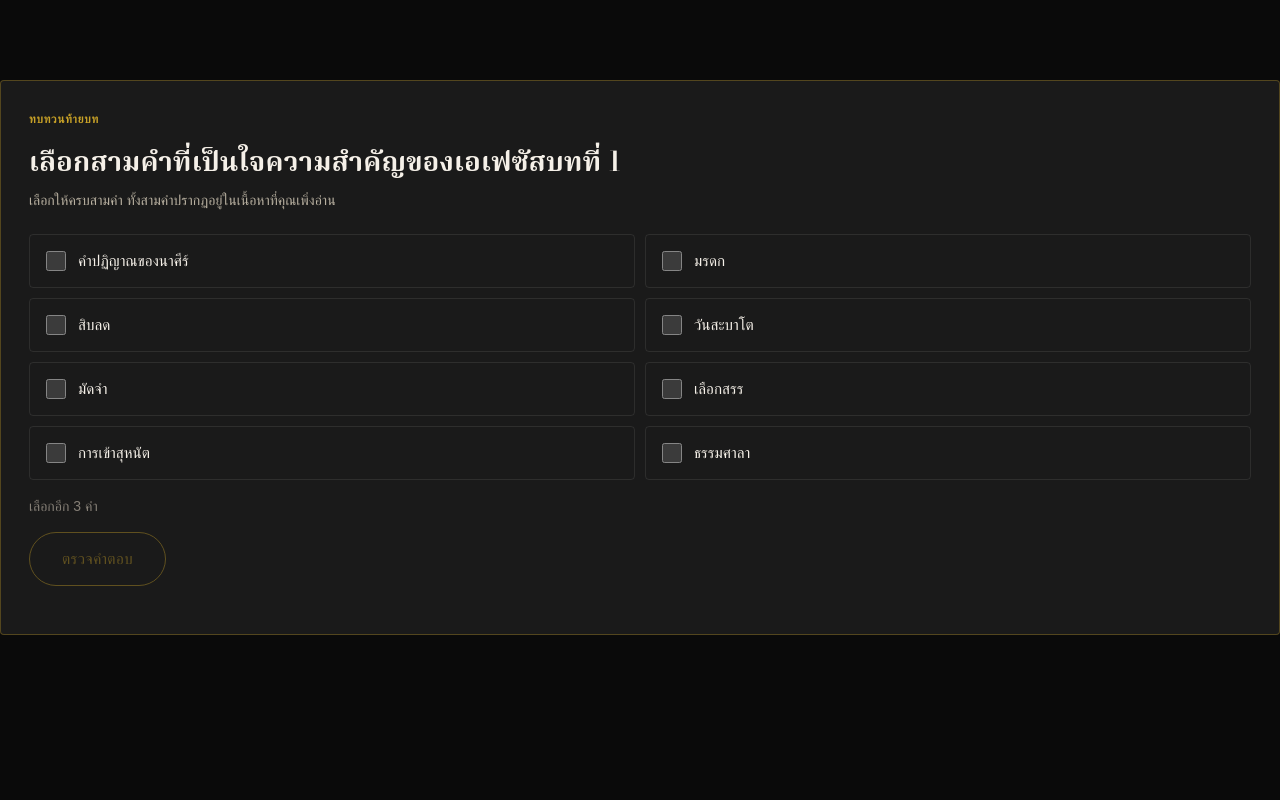
chapter ending flow › does not complete the chapter when the answer is wrong
Click the checkbox labelled "เลือกสรร".
click(672, 389)  # box [662,379,682,399]
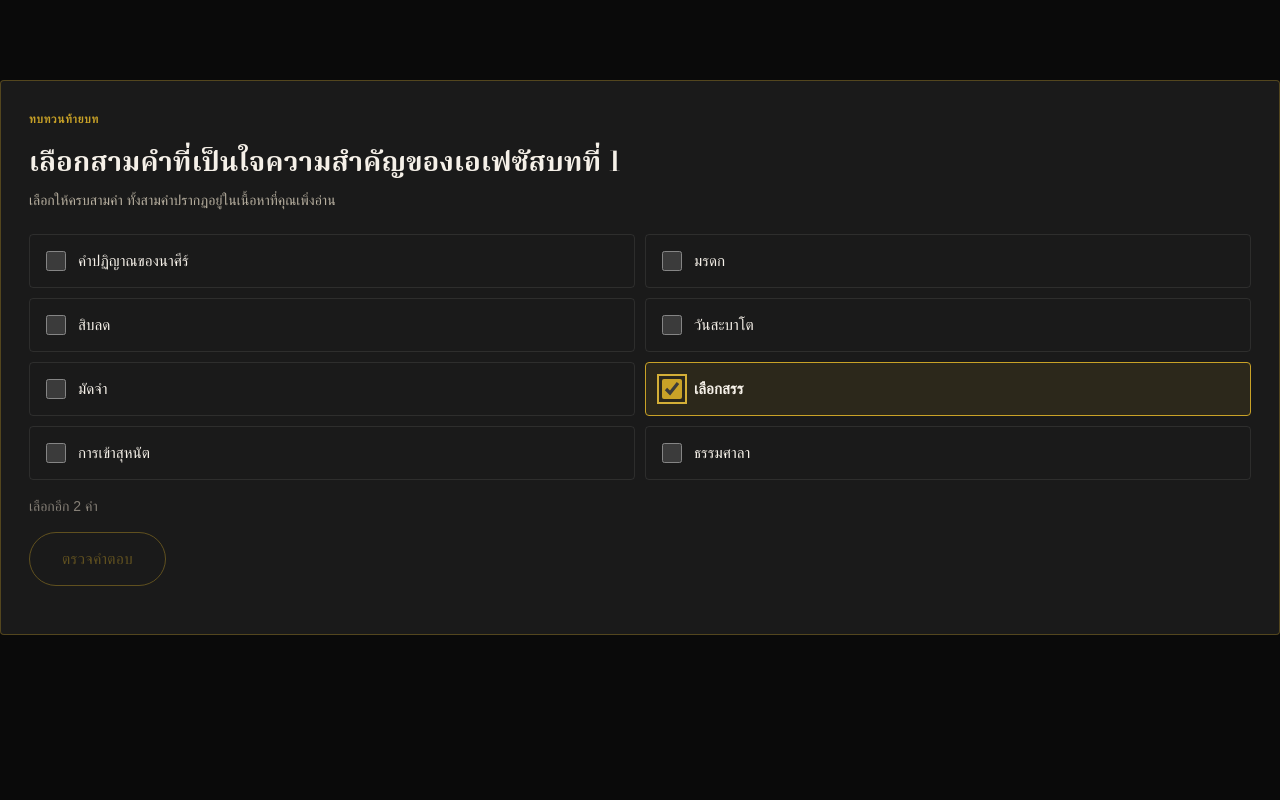
Click the checkbox labelled "มรดก".
click(672, 261)  # box [662,251,682,271]
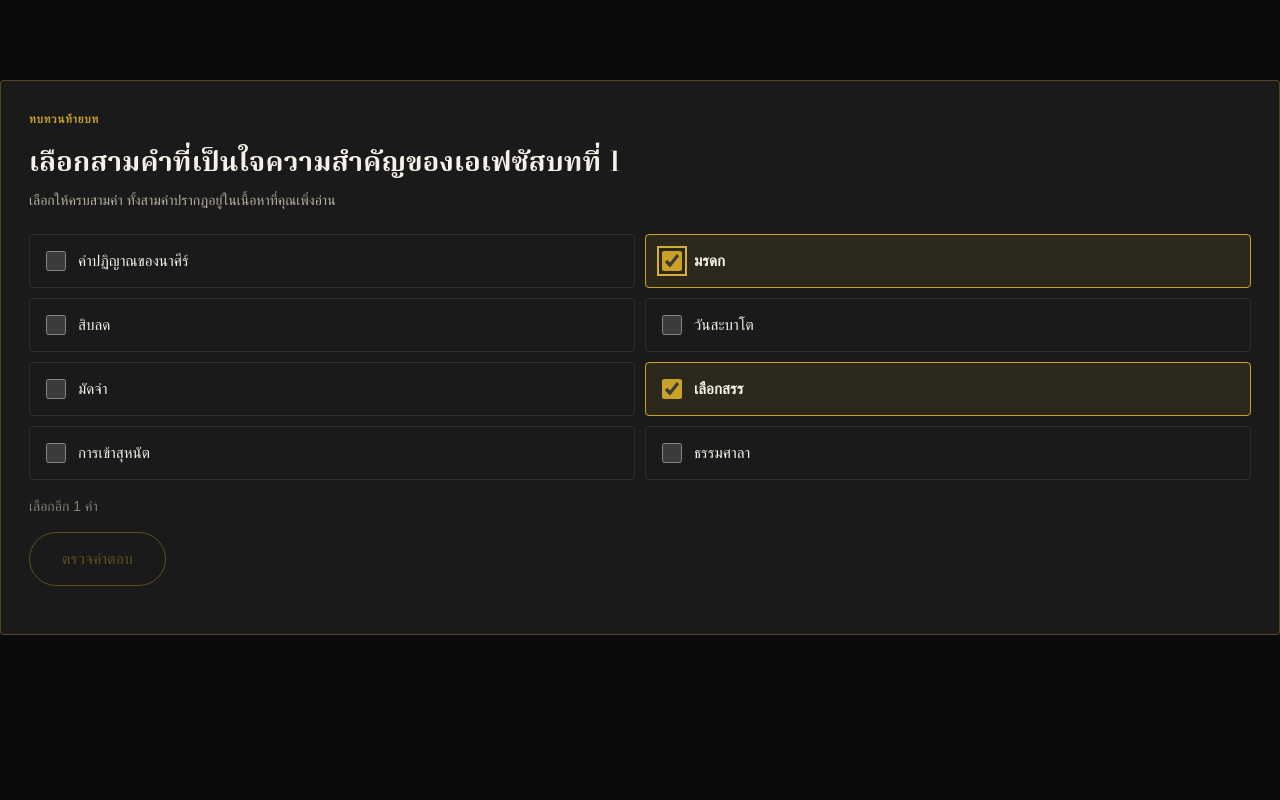
Click the checkbox labelled "การเข้าสุหนัต".
click(56, 453)  # box [46,443,66,463]
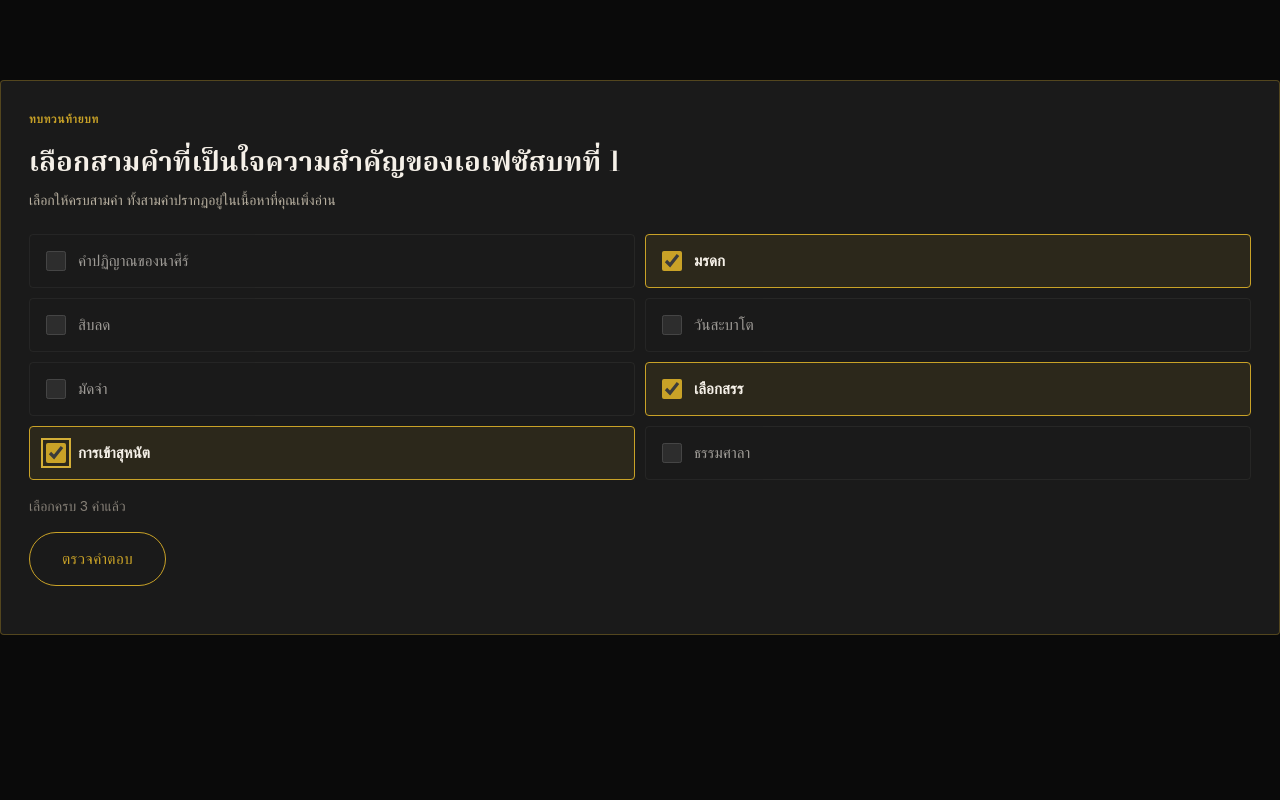
Click the button "ตรวจคำตอบ".
click(97, 559)  # box [29,532,166,586]
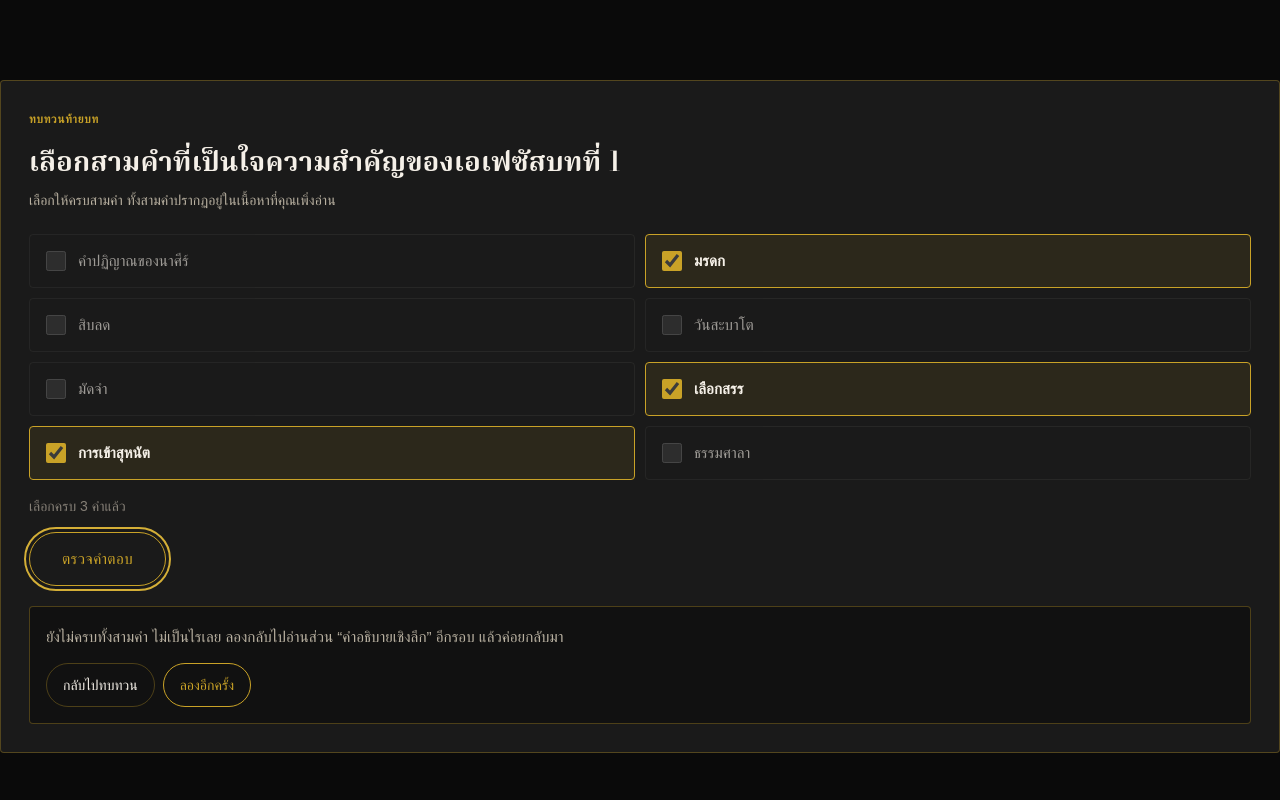
Expected: the text "ยังไม่ครบทั้งสามคำ ไม่เป็นไรเลย ลองกลับไปอ่านส่วน “คำอธิบายเชิงลึก” อีกรอบ แล้วค่อยกลับมา" is shown, [46,628,563,645]
Expected: the button "กลับไปทบทวน" is shown, [46,664,155,708]
Expected: the button "ลองอีกครั้ง" is shown, [163,664,251,708]
